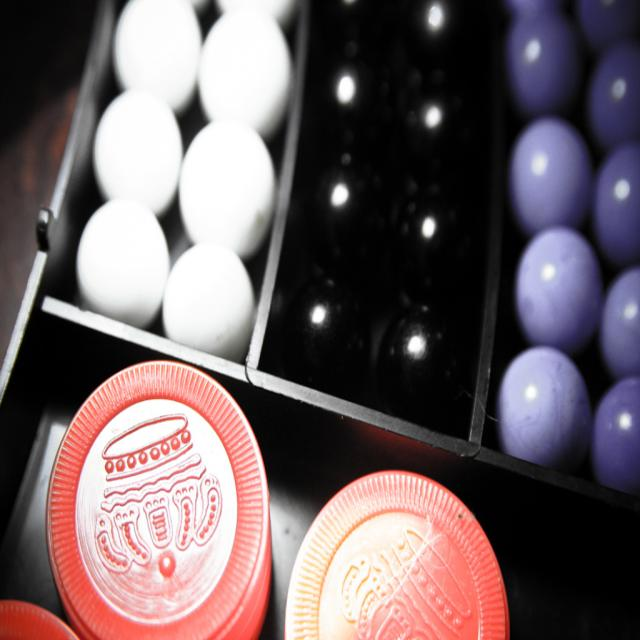Egg: (74, 0, 291, 365), (491, 0, 639, 493)
